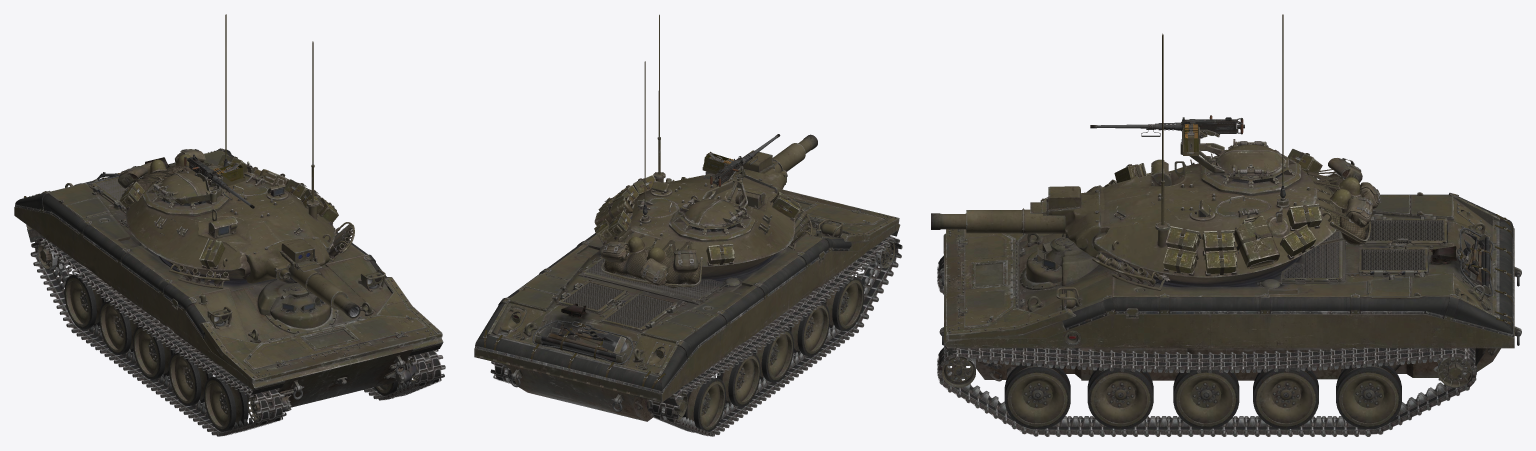
File: m551_sheridan_war_thunder.glb
3 renders of one model, left to right at view 1: azimuth 30°, elevation 25°; view 2: azimuth 150°, elevation 25°; view 3: azimuth 270°, elevation 25°, orthographic. The views are drawn at different scales.
Visible parts, largest first — view 1: Object_23, Object_24, Object_12, Object_21, Object_2, Object_19, Object_11, Object_10, Object_16, Object_22, Object_5, Object_8 (+4 smaller); view 2: Object_23, Object_21, Object_22, Object_12, Object_2, Object_19, Object_11, Object_24, Object_10, Object_7, Object_16, Object_25 (+4 smaller); view 3: Object_22, Object_18, Object_5, Object_12, Object_24, Object_21, Object_11, Object_10, Object_16, Object_23, Object_7, Object_25 (+4 smaller).
Boxes of the visible parts, x1,y1,x2,y2 form: Object_23: (14,157,385,394); Object_24: (48,150,442,383); Object_12: (125,161,335,280); Object_21: (65,157,435,412); Object_2: (30,237,286,436); Object_19: (64,274,430,431); Object_11: (118,149,338,222); Object_10: (119,154,354,288); Object_16: (246,237,360,318); Object_22: (23,148,443,399); Object_5: (364,349,445,400); Object_8: (184,154,254,208); Object_23: (512,219,900,411); Object_21: (475,202,855,421); Object_22: (474,233,665,393); Object_12: (601,172,795,279); Object_2: (648,236,902,436); Object_19: (682,276,864,431); Object_11: (594,175,754,287); Object_24: (510,189,899,341); Object_10: (594,177,812,264); Object_7: (563,229,721,328); Object_16: (697,134,817,231); Object_25: (599,293,679,332); Object_22: (940,211,1521,365); Object_18: (1004,348,1476,429); Object_5: (937,346,1476,436); Object_12: (1092,153,1341,285); Object_24: (946,192,1452,340); Object_21: (939,211,1521,381); Object_11: (1163,139,1380,274); Object_10: (1092,141,1322,290); Object_16: (931,185,1101,258); Object_23: (943,192,1521,310); Object_7: (1284,220,1444,277); Object_25: (1006,216,1447,377).
Size of the model in its own units: 2.82 by 4.53 by 6.34.
15 materials, 15 textured.
